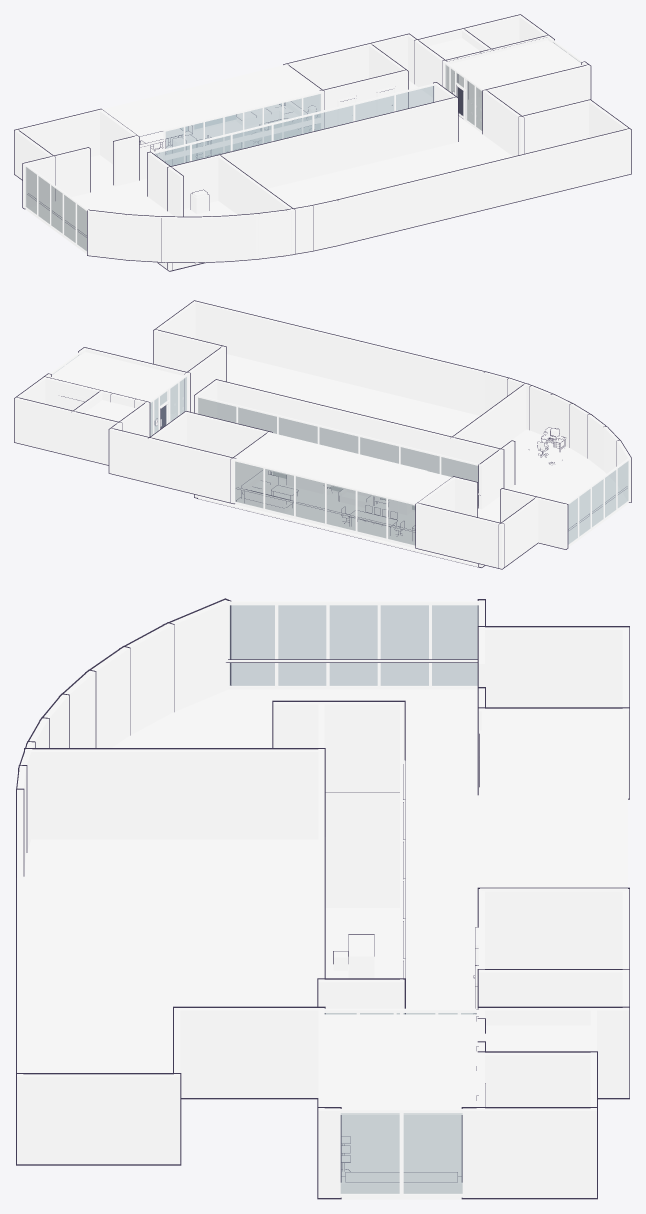
Rendered from a4_blockout.glb.
3 views of the same model, one above another, from view 1: azimuth 30°, elevation 25°; view 2: azimuth 150°, elevation 25°; view 3: azimuth 270°, elevation 25° (orthographic). The views are drawn at different scales.
Visible parts, largest first — view 1: Walls, Glass_Wall, Floor, Ceil_Online, Online_Furn, Ceil_A4-001, Online_FloorTint, Lift_Ceiling, A4-001_Props, Door_A4-147, Door_A4-145, Ricoh_Printer; view 2: Walls, Glass_Wall, Floor, Ceil_Online, Online_Furn, Ceil_A4-001, Online_FloorTint, Lower_Level, Lift_Ceiling, Railing; view 3: Walls, Floor, Glass_Wall, Ceil_Online, Ceil_A4-001, A4-001_FloorTint, Lower_Level, A4-001_Props, Lift_Ceiling, Railing.
Boxes of the visible parts, box(x1,y1,x2,y2) form: Walls: box(14, 14, 631, 271); Glass_Wall: box(24, 39, 584, 253); Floor: box(25, 80, 512, 263); Ceil_Online: box(100, 65, 321, 136); Online_Furn: box(139, 94, 319, 179); Ceil_A4-001: box(446, 40, 582, 91); Online_FloorTint: box(150, 119, 308, 165); Lift_Ceiling: box(427, 38, 479, 59); A4-001_Props: box(445, 37, 547, 92); Door_A4-147: box(376, 86, 395, 115); Door_A4-145: box(337, 96, 356, 125); Ricoh_Printer: box(190, 189, 209, 213); Walls: box(14, 300, 631, 569); Glass_Wall: box(48, 351, 629, 547); Floor: box(226, 354, 628, 548); Ceil_Online: box(234, 433, 453, 505); Online_Furn: box(236, 462, 415, 541); Ceil_A4-001: box(50, 352, 186, 403); Online_FloorTint: box(237, 479, 415, 544); Lower_Level: box(197, 496, 480, 567); Lift_Ceiling: box(84, 400, 136, 421); Railing: box(235, 486, 627, 532); Walls: box(16, 598, 629, 1199); Floor: box(23, 689, 593, 1199); Glass_Wall: box(223, 601, 627, 1197); Ceil_Online: box(481, 710, 625, 890); Ceil_A4-001: box(324, 1014, 476, 1114); A4-001_FloorTint: box(341, 1115, 461, 1176); Lower_Level: box(325, 908, 399, 978); A4-001_Props: box(340, 1009, 478, 1193); Lift_Ceiling: box(485, 1025, 590, 1051); Railing: box(226, 659, 477, 1013).
Bounding box in the file's own units: 37.81 × 7.14 × 19.17.
